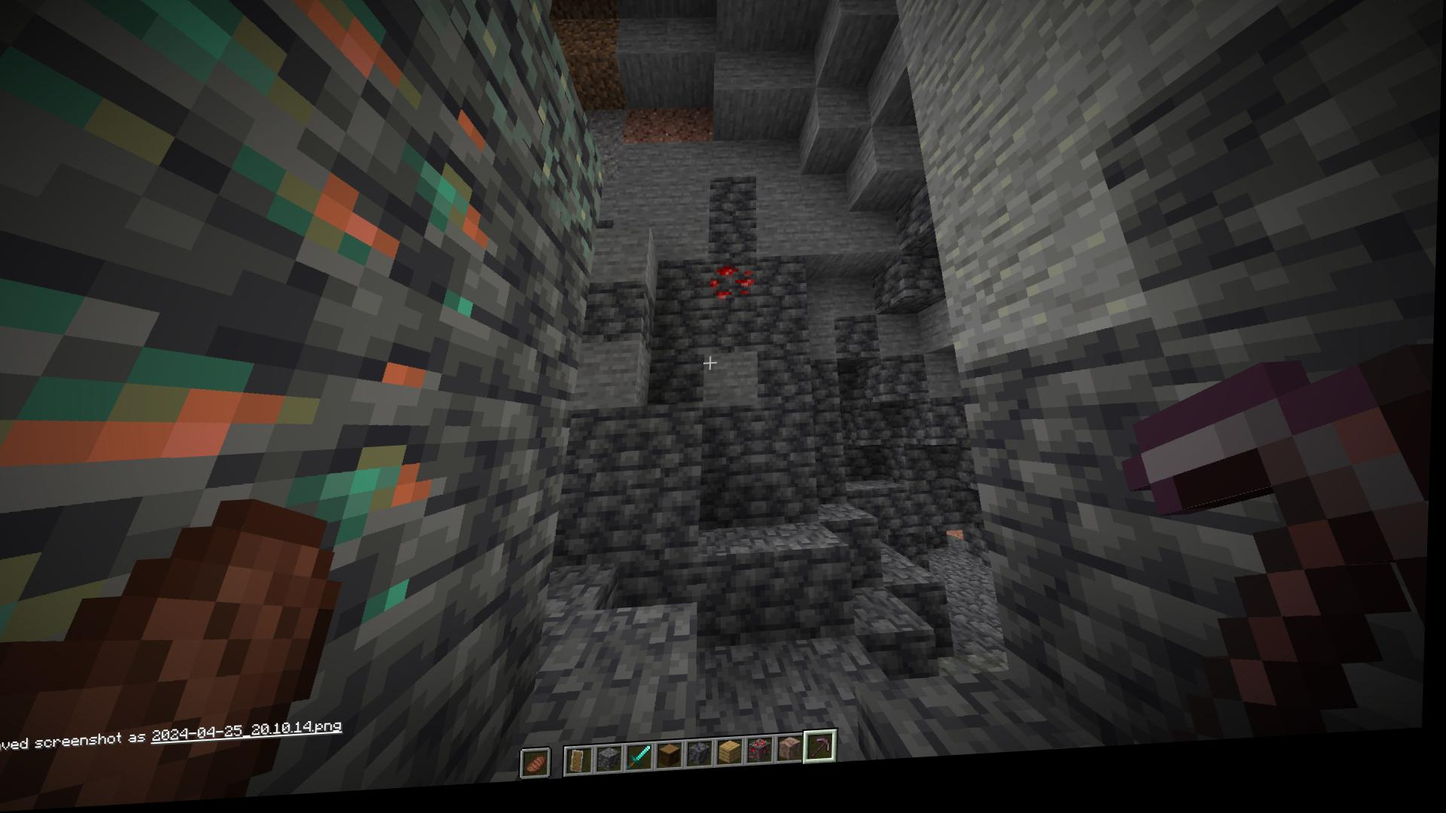redstone ore: (707, 265, 761, 310)
